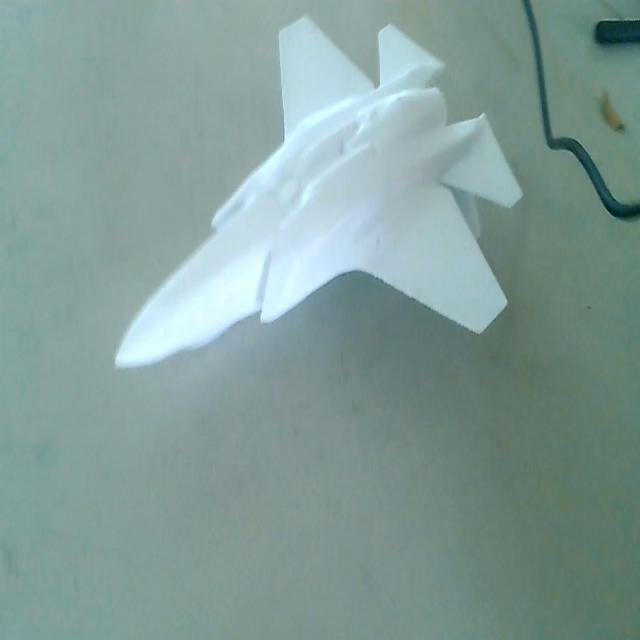Jet: (100, 11, 524, 380)
